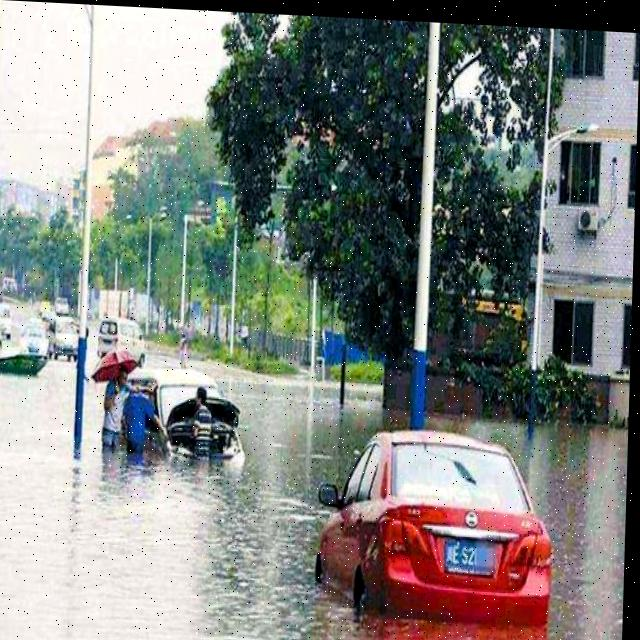civilian: (117, 378, 168, 466), (99, 359, 132, 463), (187, 384, 220, 475)
